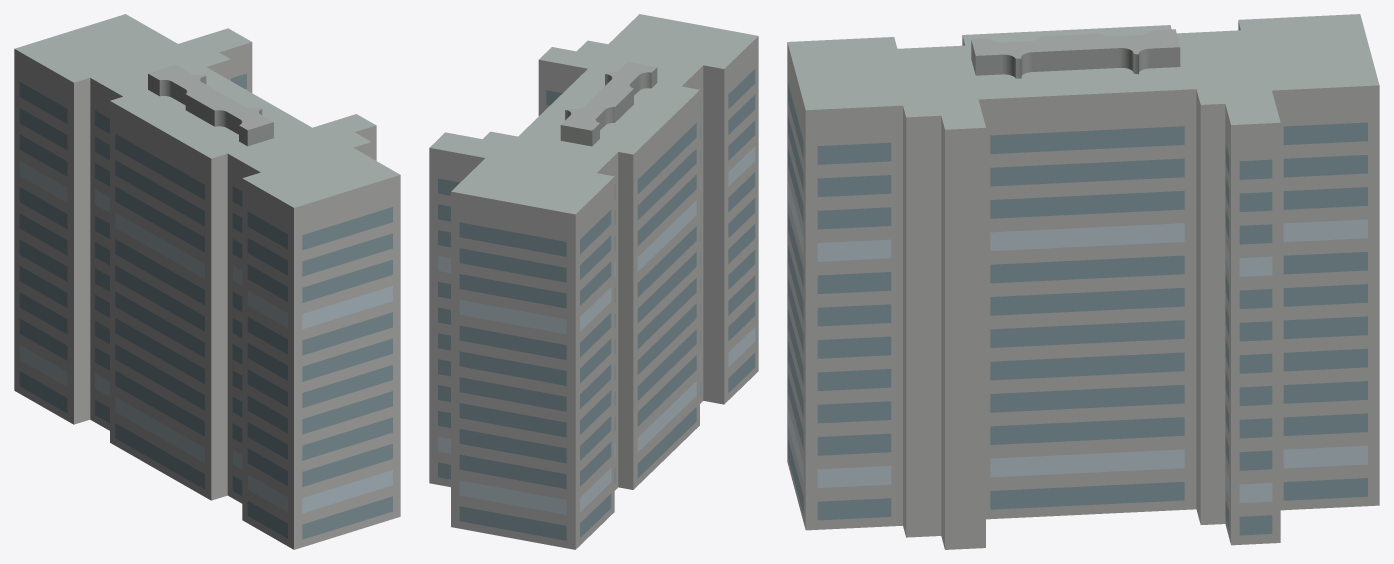
Rendered from fallback-mapo-raemian-prugio-209.glb.
The picture shows the model from 3 angles, left to right: view 1: azimuth 30°, elevation 25°; view 2: azimuth 150°, elevation 25°; view 3: azimuth 270°, elevation 25°; orthographic projection. The views are drawn at different scales.
Visible parts, largest first — view 1: fallback-mapo-raemian-prugio-209; view 2: fallback-mapo-raemian-prugio-209; view 3: fallback-mapo-raemian-prugio-209.
Boxes of the visible parts, x1,y1,x2,y2 form: fallback-mapo-raemian-prugio-209: [14, 14, 400, 549]; fallback-mapo-raemian-prugio-209: [429, 14, 758, 549]; fallback-mapo-raemian-prugio-209: [787, 14, 1379, 549].
Size of the model in its own units: 19.19 by 34 by 41.47.
